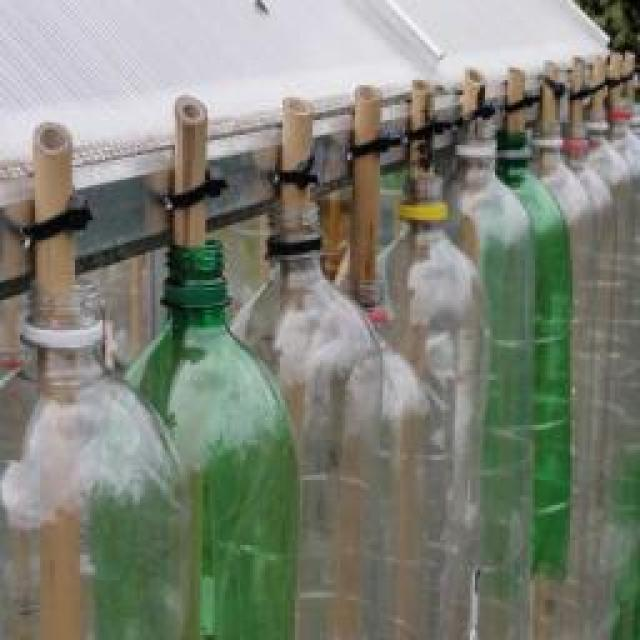bottle: (0, 282, 192, 639), (154, 237, 297, 640), (254, 205, 384, 640), (392, 170, 490, 640)
